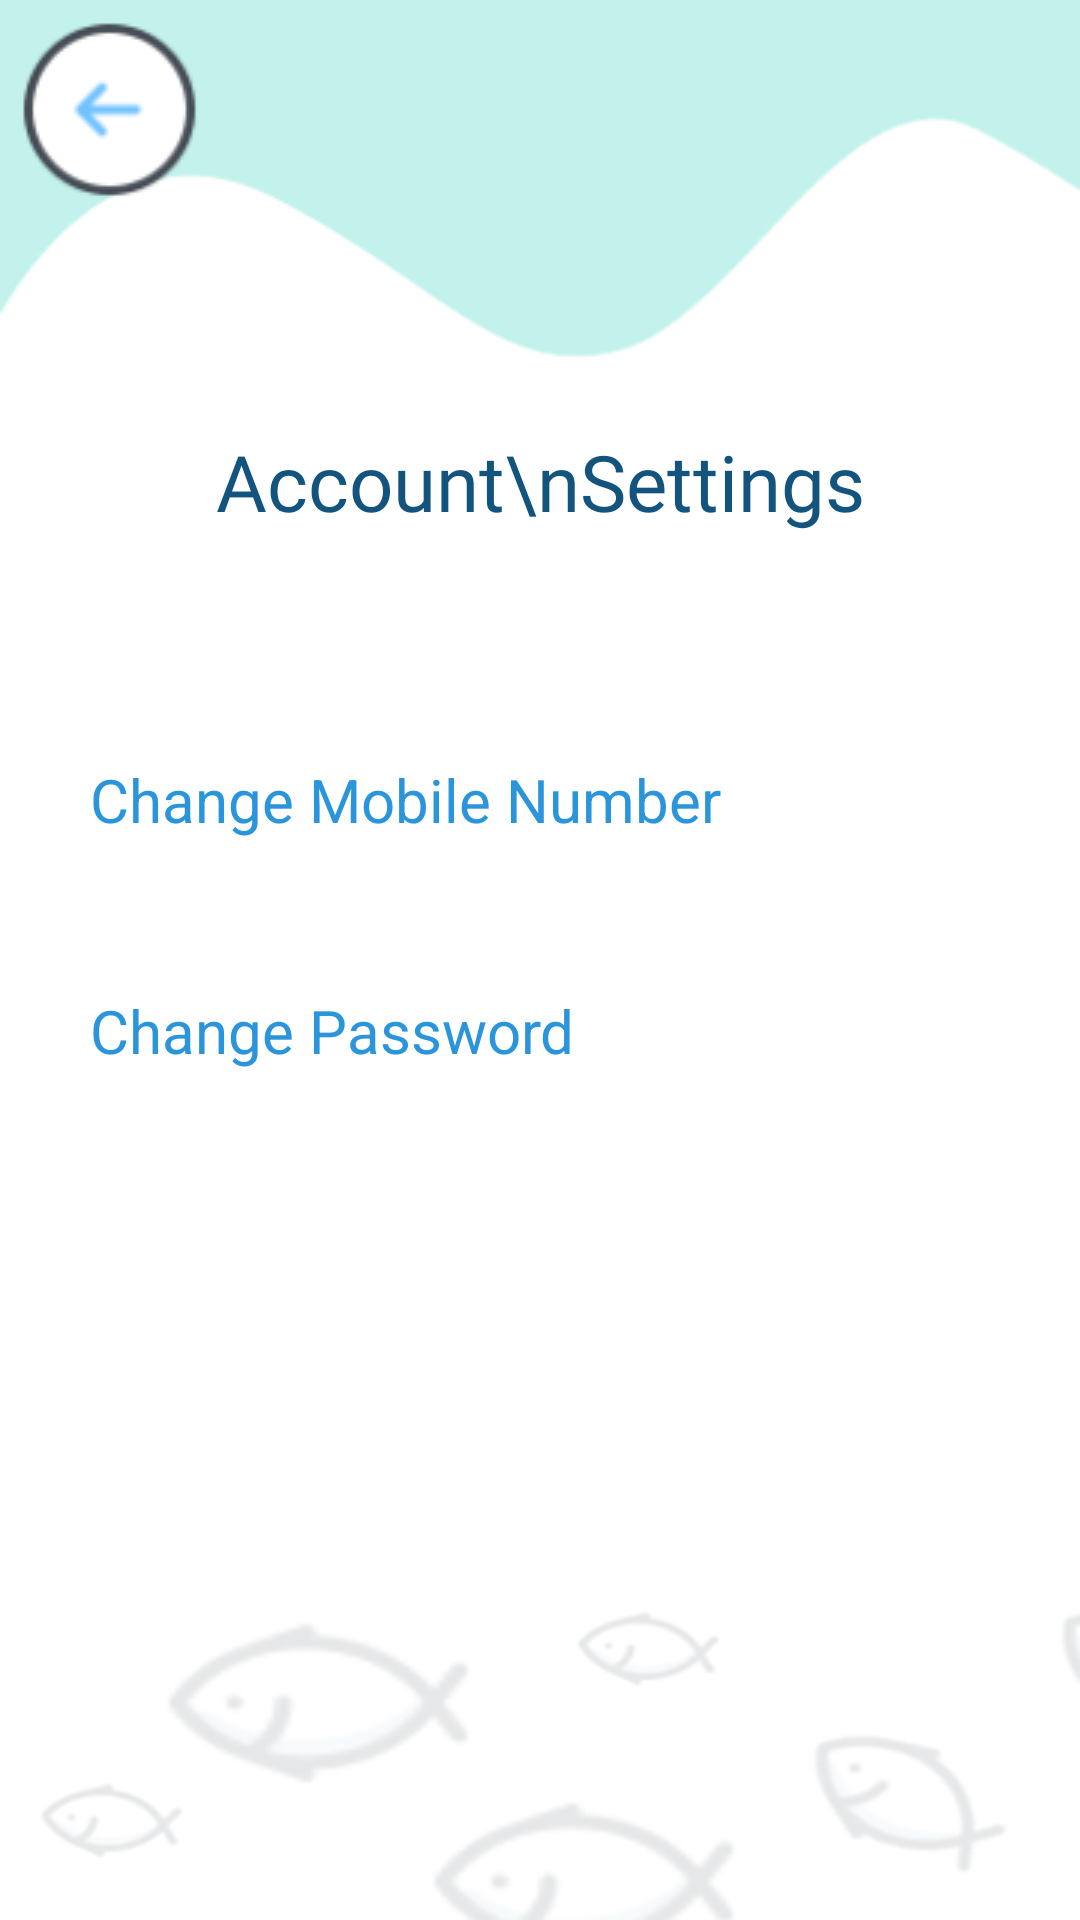

Icons on this 1080*1920 Android screen, each with its box as bbox=[x1, y1, x2, y2]:
back: bbox=[23, 23, 204, 204]
